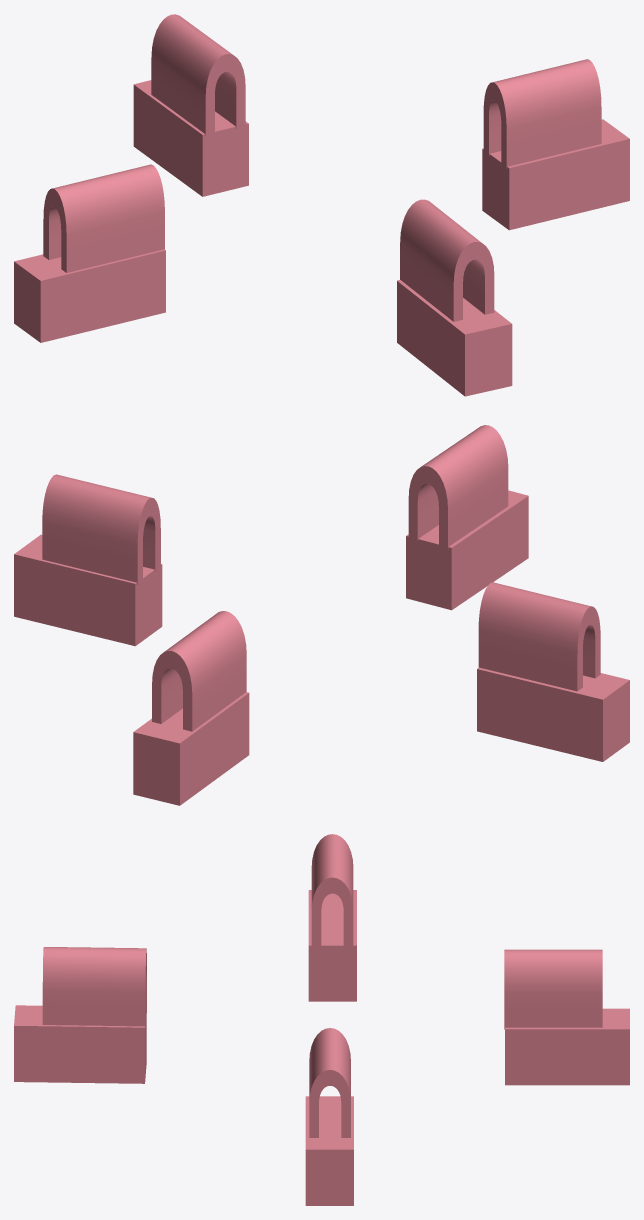
Rendered from aRCOS.fbx.
3 views of the same model, one above another, from view 1: azimuth 30°, elevation 25°; view 2: azimuth 150°, elevation 25°; view 3: azimuth 270°, elevation 25° (orthographic). The views are drawn at different scales.
Visible parts, largest first — view 1: Arco.002, Arco.003, Arco.001, Arco; view 2: Arco.002, Arco.003, Arco.001, Arco; view 3: Arco.001, Arco, Arco.003, Arco.002.
Part boxes in pixels (x1=…): Arco.002: x1=14, y1=164, x2=165, y2=342; Arco.003: x1=482, y1=59, x2=629, y2=230; Arco.001: x1=397, y1=199, x2=512, y2=396; Arco: x1=133, y1=14, x2=248, y2=196; Arco.002: x1=477, y1=582, x2=629, y2=761; Arco.003: x1=14, y1=474, x2=162, y2=646; Arco.001: x1=406, y1=425, x2=528, y2=610; Arco: x1=133, y1=611, x2=249, y2=805; Arco.001: x1=14, y1=947, x2=146, y2=1083; Arco: x1=504, y1=949, x2=629, y2=1085; Arco.003: x1=305, y1=1028, x2=353, y2=1205; Arco.002: x1=308, y1=834, x2=356, y2=1001.
Bounding box in the file's own units: 58980 × 13253 × 59135.
